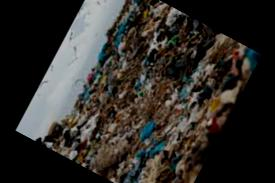Trash: (17, 0, 261, 183)
